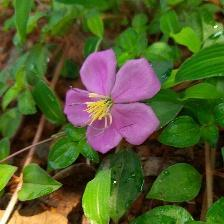malabar melastome: (63, 49, 164, 157)
